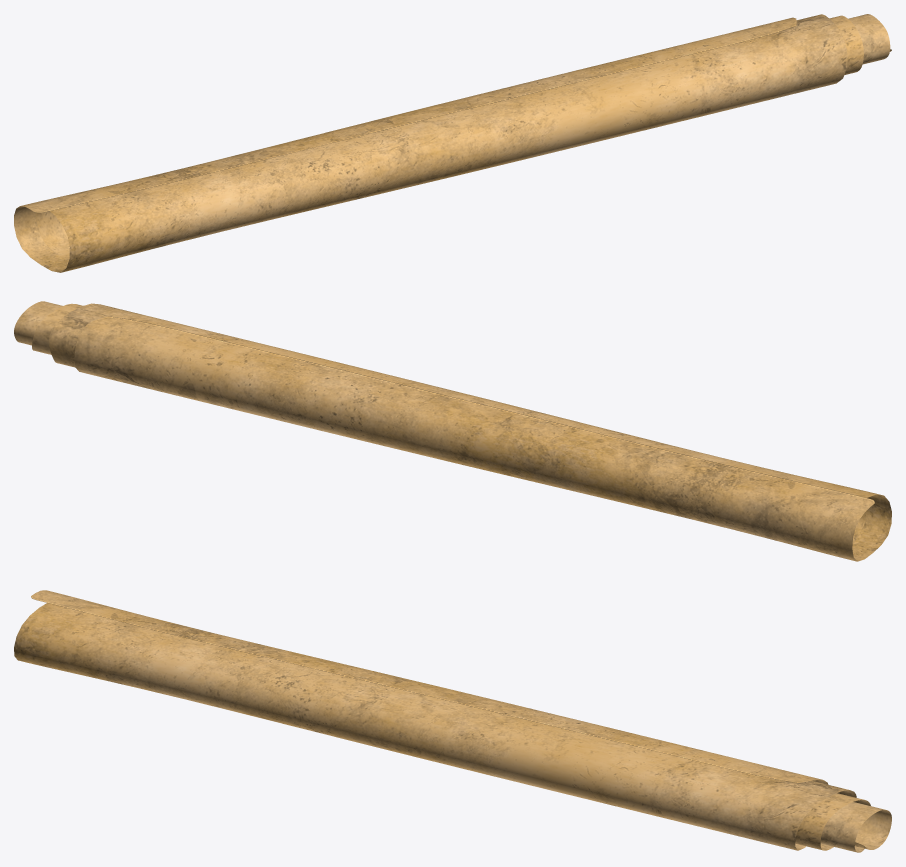
The model's file is rolled_parchment.glb.
3 renders of one model, top to bottom at view 1: azimuth 30°, elevation 25°; view 2: azimuth 150°, elevation 25°; view 3: azimuth 330°, elevation 25°, orthographic.
Visible parts, largest first — view 1: Object_2; view 2: Object_2; view 3: Object_2.
Part boxes in pixels (x1,y1,x2,y2): Object_2: [14, 14, 891, 272]; Object_2: [14, 301, 891, 561]; Object_2: [14, 590, 891, 852].
Bounding box in the file's own units: 0.5838 × 0.0347 × 0.0569.
1 material, 1 textured.
